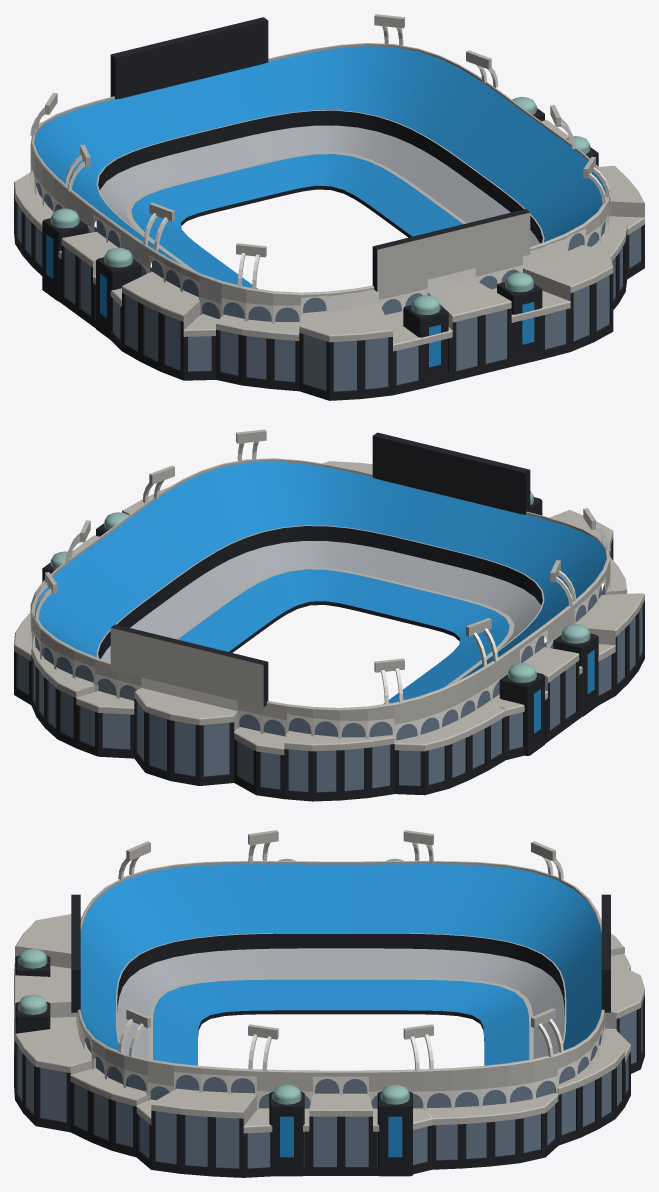
The model's file is bank-of-america-stadium.glb.
3 renders of one model, top to bottom at view 1: azimuth 30°, elevation 25°; view 2: azimuth 150°, elevation 25°; view 3: azimuth 270°, elevation 25°, orthographic.
Parts seen in each view (by area): view 1: Bank of America Stadium; view 2: Bank of America Stadium; view 3: Bank of America Stadium.
Boxes of the visible parts, box(x1,y1,x2,y2) form: Bank of America Stadium: box(14, 14, 644, 400); Bank of America Stadium: box(14, 429, 644, 801); Bank of America Stadium: box(14, 830, 644, 1177).
Bounding box in the file's own units: 245 × 59.1 × 268.
